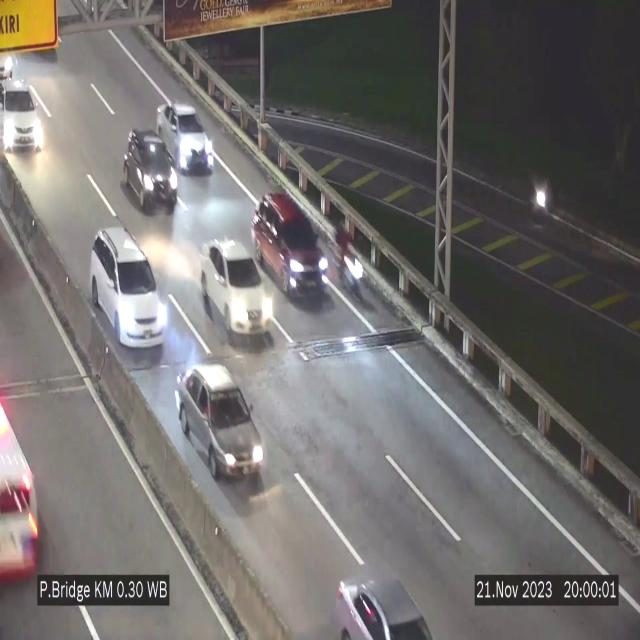Bus: (0, 377, 42, 597)
Car: (176, 366, 264, 480), (90, 227, 166, 350), (253, 189, 330, 307), (324, 559, 436, 640), (202, 240, 274, 342), (122, 129, 178, 214), (156, 103, 214, 172), (0, 76, 48, 152)
Motorcycle: (334, 221, 366, 312), (530, 164, 550, 238)
